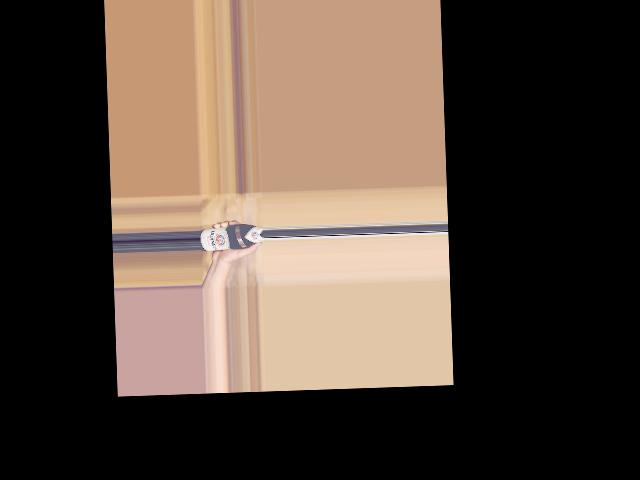beer: (199, 223, 263, 252)
